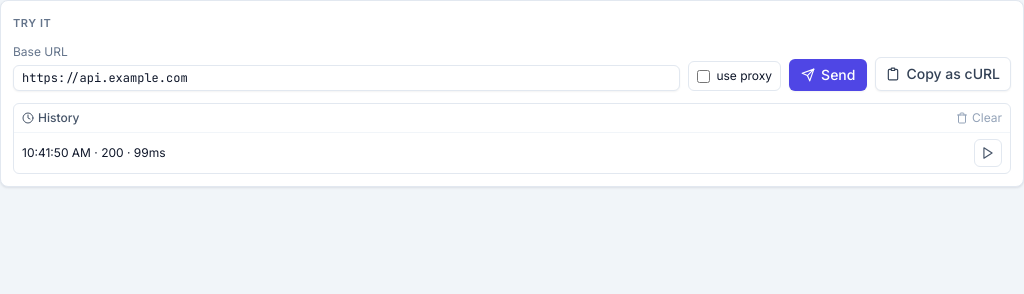
shows truncated banner for entries with rawTruncated=true
Expected: the text "10:41:50 AM" is shown, [22, 145, 91, 160]
# Expand the entry by clicking on it
Click the button "10:41:50 AM · 200 · 99ms": (56, 152) [22, 145, 966, 161]
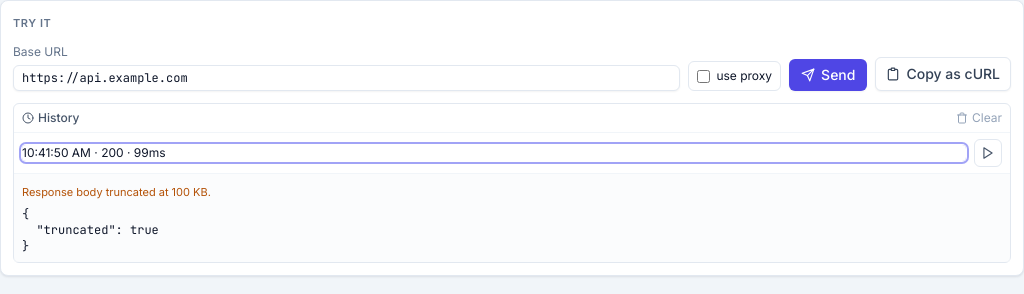
Expected: the text "Response body truncated at 100 KB." is shown, [22, 185, 211, 199]
